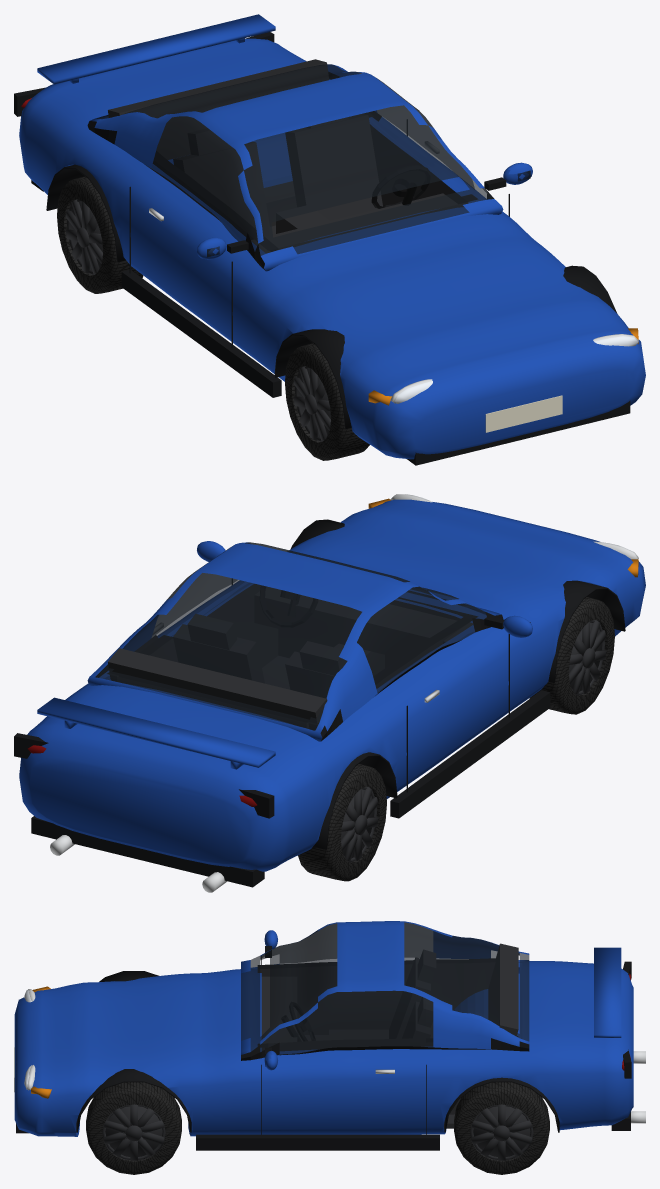
The model's file is car_coupe.glb.
The picture shows the model from 3 angles, top to bottom: view 1: azimuth 30°, elevation 25°; view 2: azimuth 150°, elevation 25°; view 3: azimuth 270°, elevation 25°; orthographic projection. The views are drawn at different scales.
Parts seen in each view (by area): view 1: Body, wheel_FR, wheel_RR, Door_L; view 2: Body, wheel_RR, wheel_FR, Door_L; view 3: Body, Door_L, wheel_FL, wheel_RL.
Boxes of the visible parts, left/top/right/bottom form: Body: left=14, top=14, right=645, bottom=465; wheel_FR: left=285, top=343, right=369, bottom=460; wheel_RR: left=57, top=176, right=143, bottom=293; Door_L: left=373, top=76, right=532, bottom=202; Body: left=14, top=494, right=645, bottom=892; wheel_RR: left=298, top=764, right=386, bottom=881; wheel_FR: left=529, top=597, right=614, bottom=714; Door_L: left=157, top=541, right=251, bottom=637; Body: left=14, top=921, right=645, bottom=1150; Door_L: left=262, top=990, right=425, bottom=1132; wheel_FL: left=86, top=1082, right=181, bottom=1174; wheel_RL: left=454, top=1082, right=549, bottom=1174.
Bounding box in the file's own units: 2.28 × 1.37 × 4.6.
12 materials, 1 textured.
